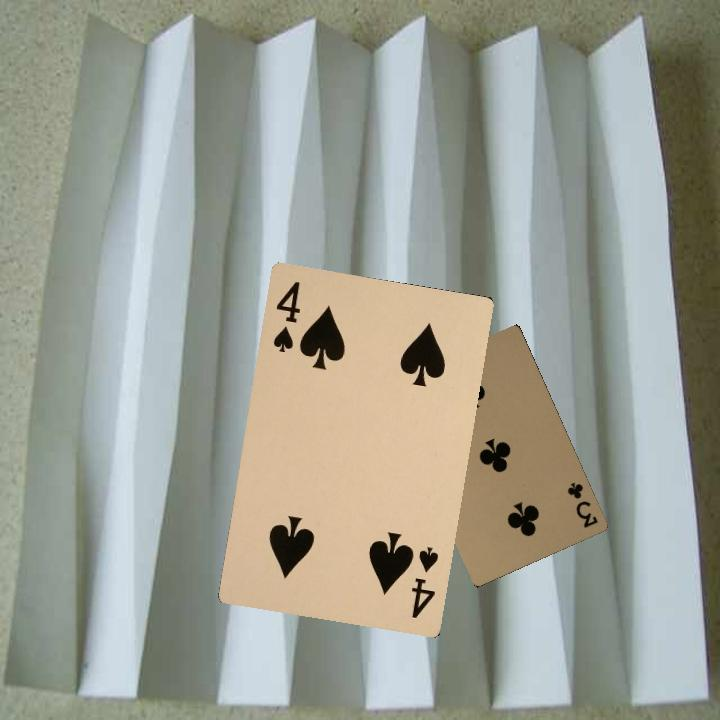3c: (563, 478, 600, 531)
4s: (407, 542, 441, 621), (269, 277, 303, 355)
